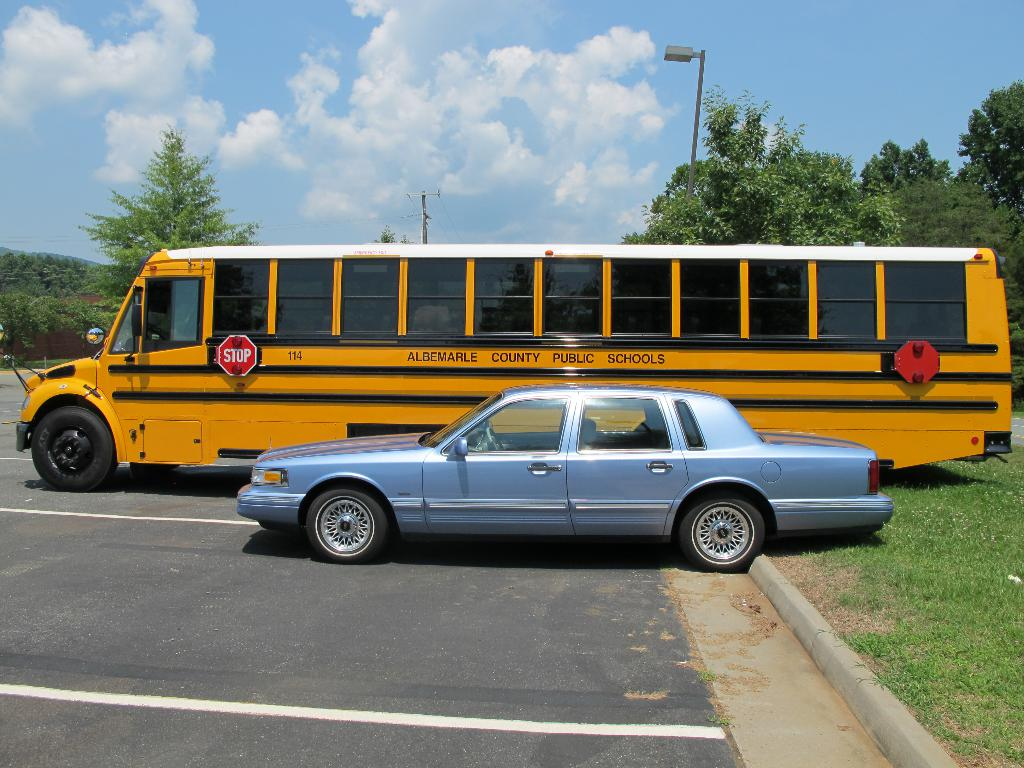Car: (230, 381, 899, 570)
